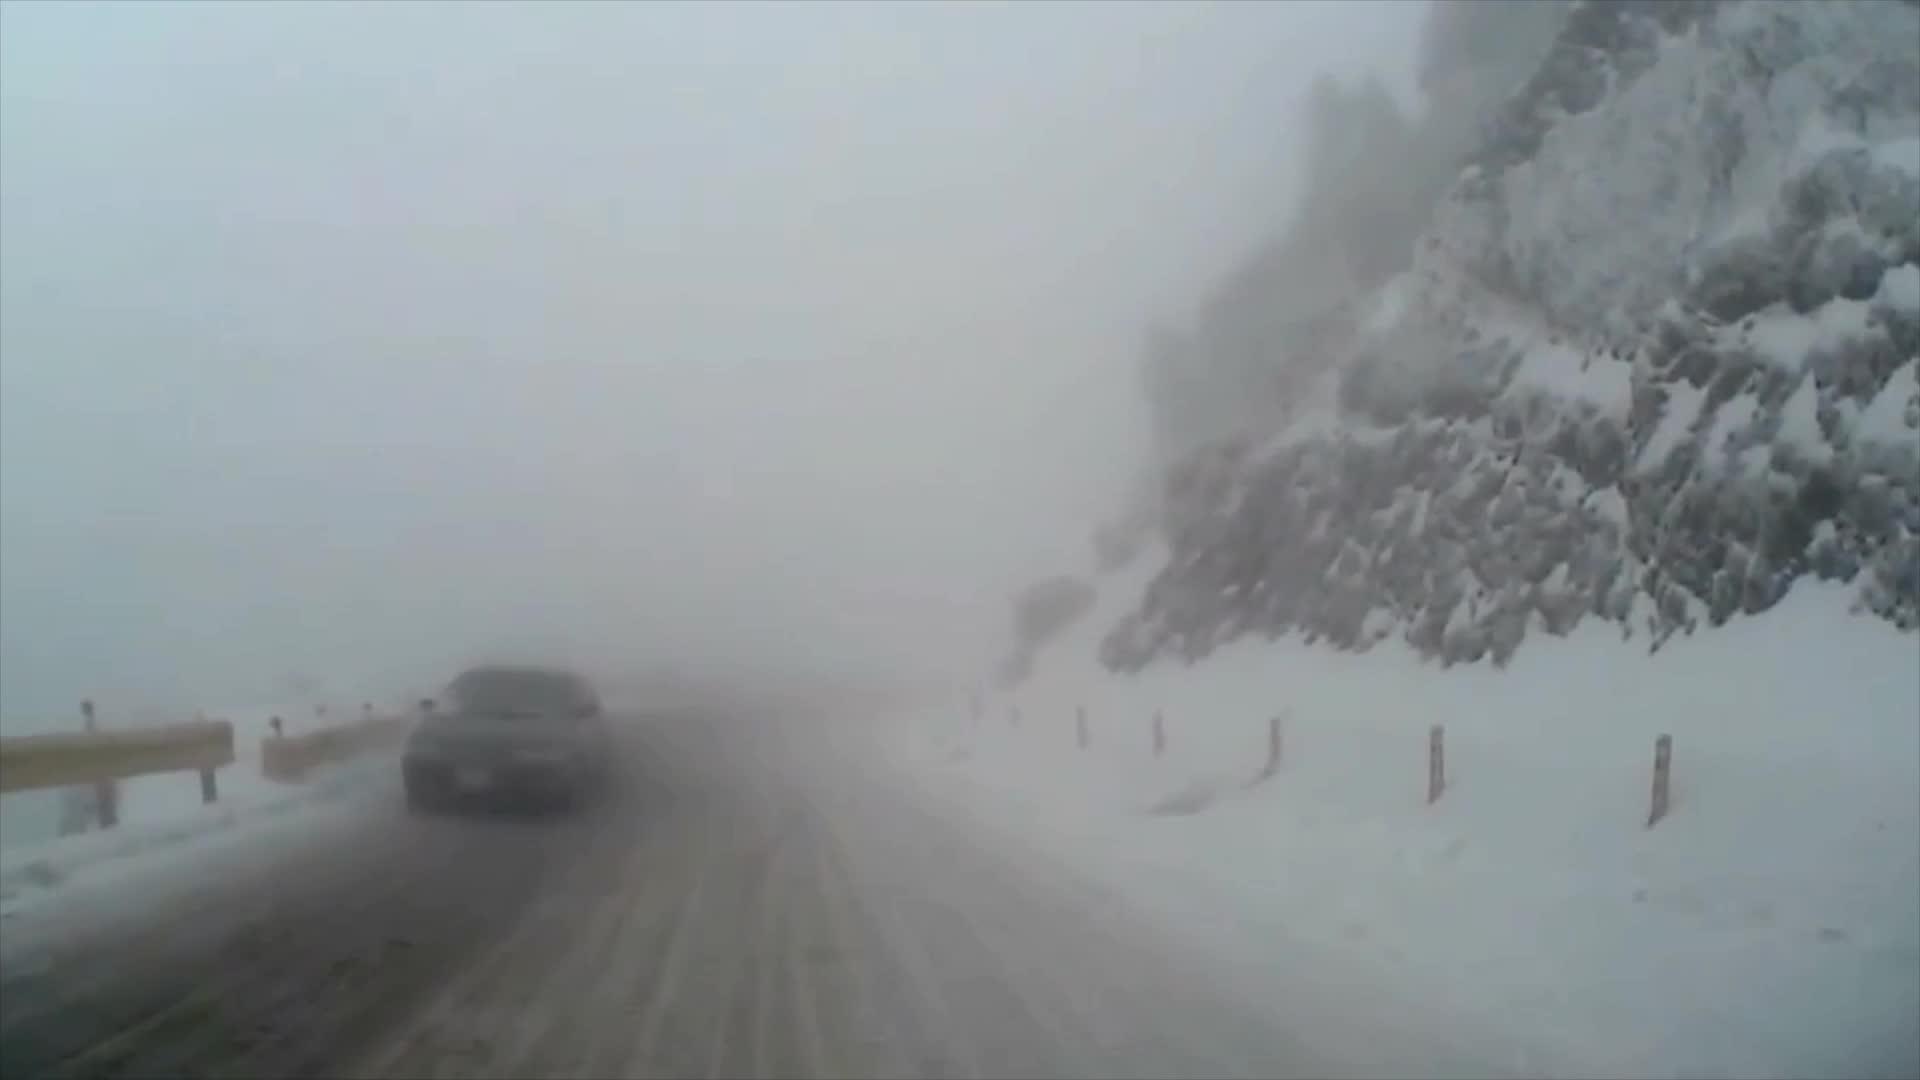vehicle: (400, 665, 615, 819)
